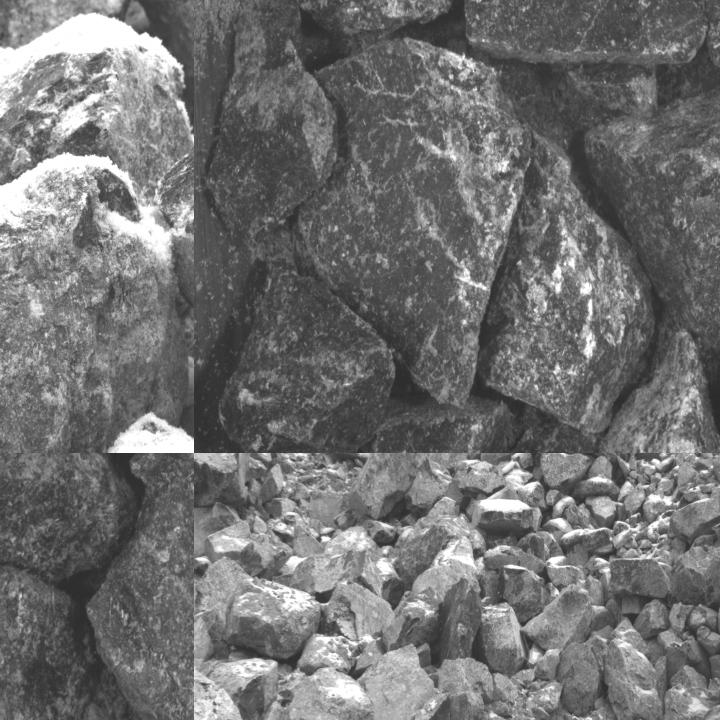stone: (299, 38, 525, 402), (0, 153, 193, 452), (480, 131, 664, 430), (0, 12, 193, 227), (586, 87, 719, 346), (222, 281, 397, 452), (87, 453, 193, 719), (209, 17, 333, 234), (0, 453, 134, 595), (0, 566, 101, 719), (460, 0, 709, 62), (588, 341, 719, 452), (343, 403, 595, 452), (194, 607, 275, 719), (222, 578, 322, 661), (274, 0, 460, 37), (346, 453, 440, 519), (357, 642, 436, 719), (559, 63, 655, 118), (520, 586, 595, 651), (604, 639, 663, 719), (286, 669, 378, 719), (322, 582, 393, 638), (479, 602, 531, 676), (290, 550, 365, 601), (379, 590, 440, 650), (206, 520, 266, 578), (559, 641, 605, 716), (498, 564, 550, 625), (299, 633, 374, 672), (608, 558, 673, 600), (439, 657, 493, 702), (669, 498, 719, 546), (194, 453, 241, 504), (473, 498, 535, 533), (539, 453, 590, 493), (665, 684, 719, 719), (459, 461, 506, 499), (405, 468, 443, 510), (634, 598, 670, 641), (448, 691, 486, 719), (293, 526, 325, 558), (700, 557, 719, 607), (688, 604, 720, 633), (671, 666, 708, 690), (669, 604, 692, 633), (480, 453, 520, 466), (327, 453, 377, 460), (710, 653, 719, 680)
